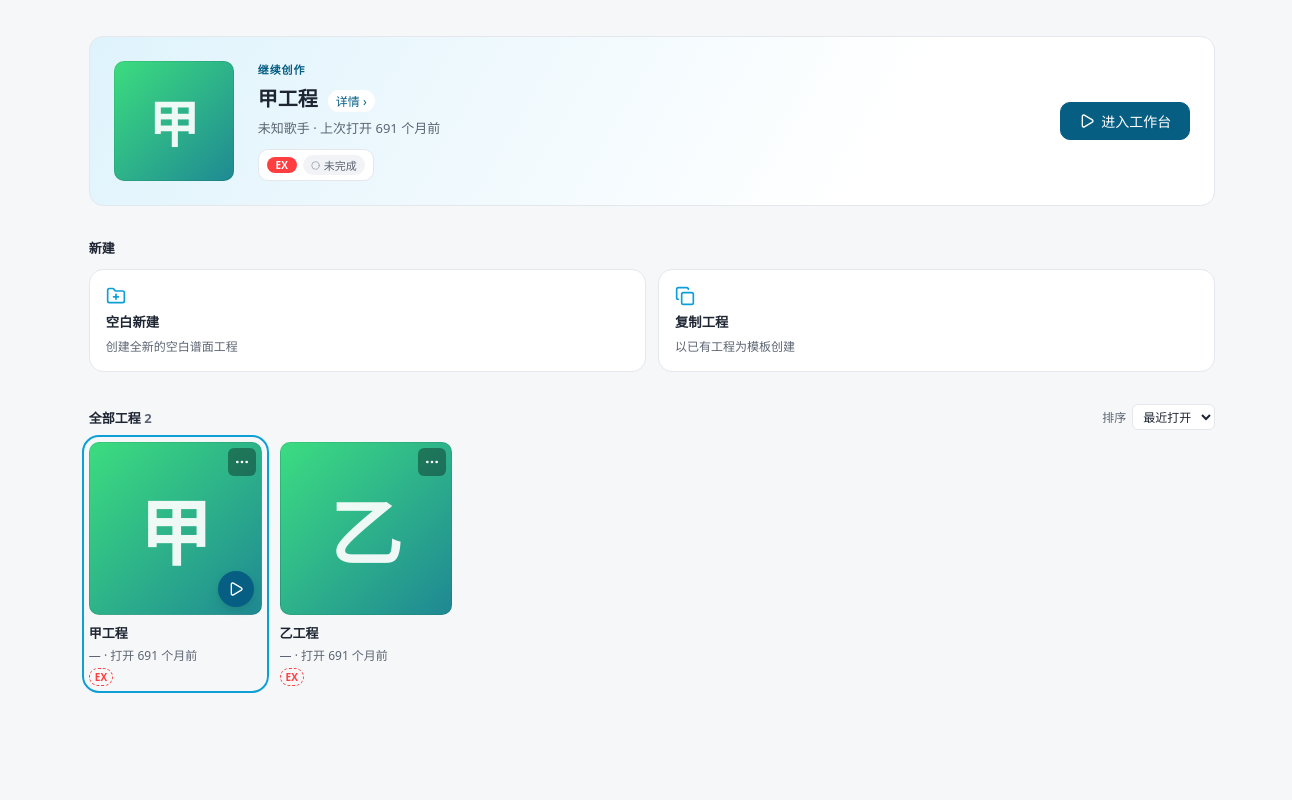
Test: chart-projects 票 32 · 复制入口收归 hub › 详情页头部没有「复制工程」钮（防回潮）
Click the element showing "甲 甲工程 — · 打开 691 个月前 EX" at (175, 564), box [89,442,262,686]
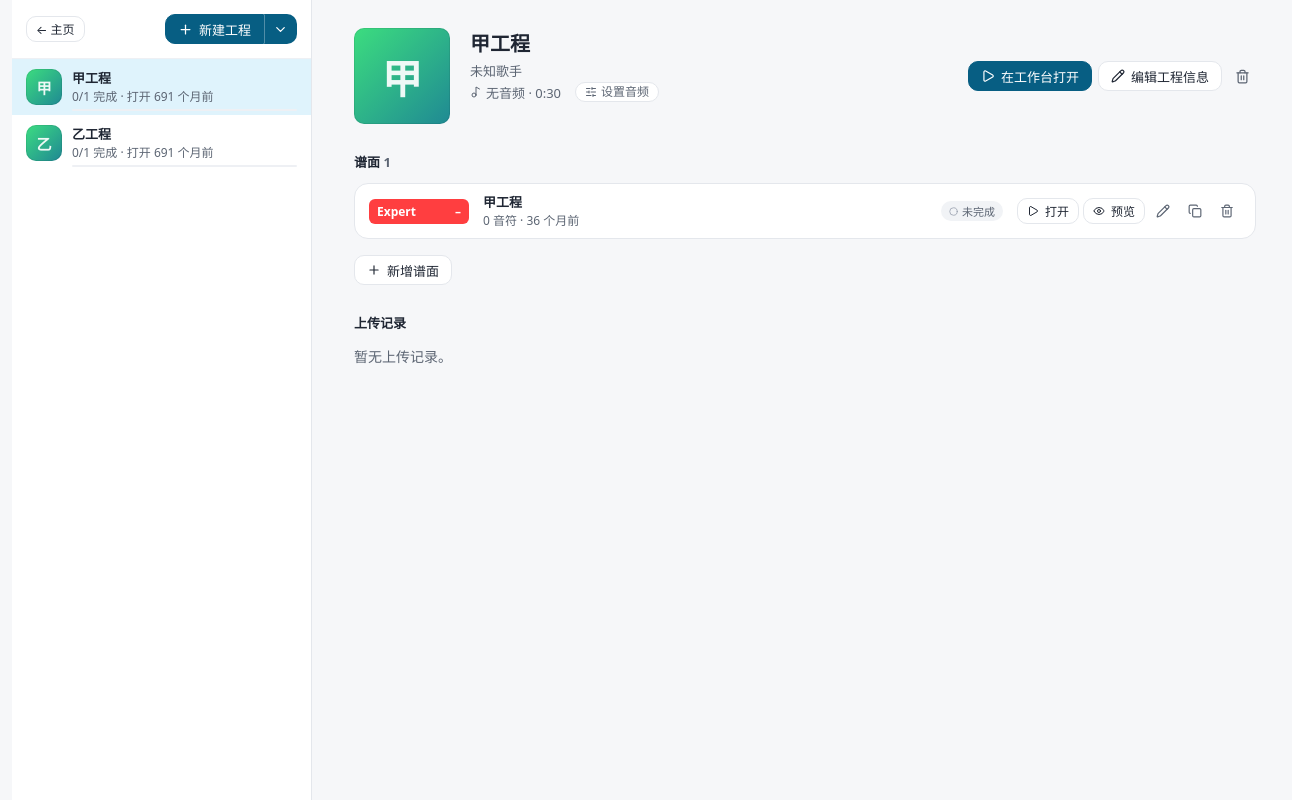
Expected: the heading "甲工程" is shown, [470,30,530,57]
Expected: the button "复制工程" is gone
